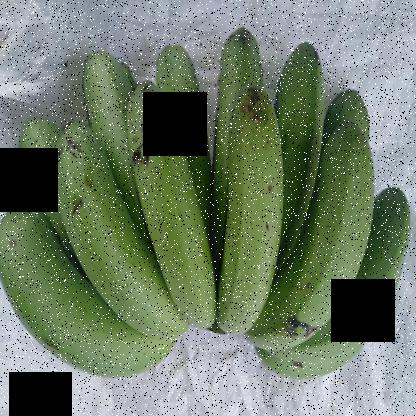unripe: (46, 113, 184, 337), (0, 204, 171, 383), (121, 78, 234, 341), (252, 118, 378, 350), (216, 82, 285, 354), (272, 34, 334, 254), (151, 18, 213, 147), (12, 101, 77, 221), (66, 31, 128, 130), (212, 18, 264, 94)
